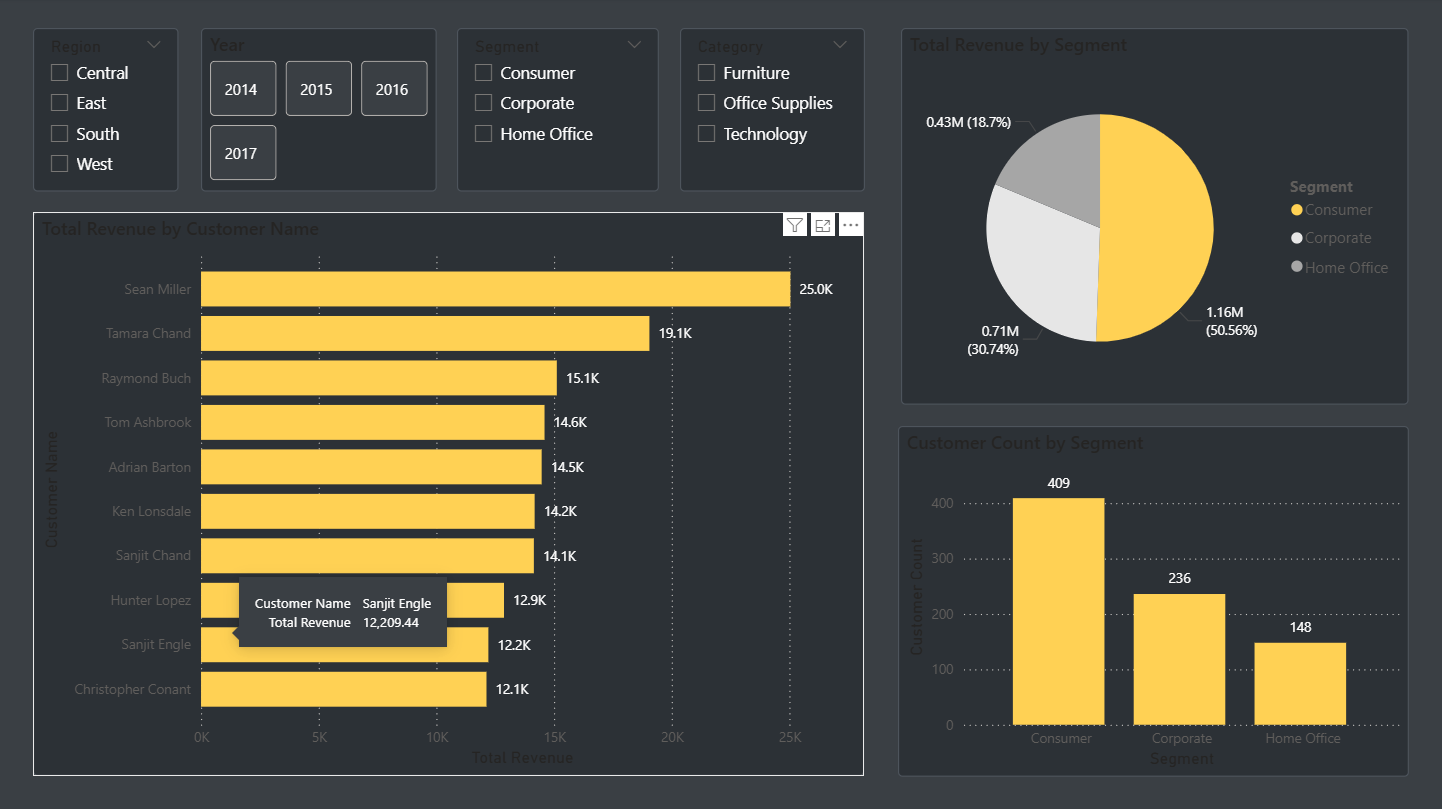

This screenshot's page, from the dashboard's own definition file:
{"tool":"powerbi","page":{"name":"Customer Analytics","canvas":[1280,720],"ordinal":2},"visuals":[{"type":"barChart","fields":{"Category":["Orders.Customer Name"],"Y":["Date_Table.Total Revenue"]},"box":[29.1,190,737.3,500],"z":0},{"type":"pieChart","fields":{"Category":["Orders.Segment"],"Y":["Date_Table.Total Revenue"]},"box":[799.1,26.4,450,333.6],"z":1000},{"type":"columnChart","fields":{"Category":["Orders.Segment"],"Y":["Date_Table.Customer Count"]},"box":[796.4,379.1,452.7,310.9],"z":2000},{"type":"slicer","fields":{"Values":["Orders.Segment"]},"box":[405.5,26.4,179.1,144.5],"z":3000},{"type":"slicer","fields":{"Values":["Orders.Region"]},"box":[29.1,26.4,129.1,144.5],"z":4000},{"type":"slicer","fields":{"Values":["Orders.Category"]},"box":[602.7,26.4,163.6,144.5],"z":5000},{"type":"advancedSlicerVisual","fields":{"Values":["Date_Table.Year"]},"box":[178.2,26.4,209.1,144.5],"z":6000}]}

Visuals, with their boxes in screenshot pixels (x1, y1, x2, y2), scaled from the page's 1280x720 canvas onto the 1442x809 screenshot:
barChart - Orders.Customer Name x Date_Table.Total Revenue: box(33, 213, 863, 775)
pieChart - Orders.Segment x Date_Table.Total Revenue: box(900, 30, 1407, 404)
columnChart - Orders.Segment x Date_Table.Customer Count: box(897, 426, 1407, 775)
slicer - Orders.Segment: box(457, 30, 659, 192)
slicer - Orders.Region: box(33, 30, 178, 192)
slicer - Orders.Category: box(679, 30, 863, 192)
advancedSlicerVisual - Date_Table.Year: box(201, 30, 436, 192)
